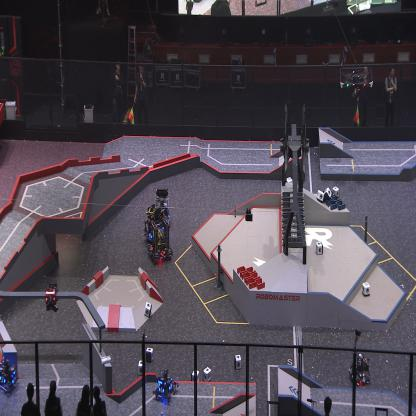car: (146, 216, 175, 264), (144, 202, 168, 249), (152, 365, 180, 402), (151, 187, 171, 233), (348, 351, 371, 386), (0, 356, 19, 397)
